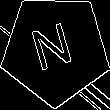N_S: (30, 20, 81, 79)
